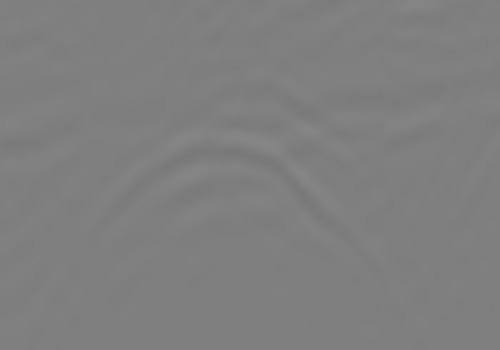hyperbola: (62, 122, 364, 274)
